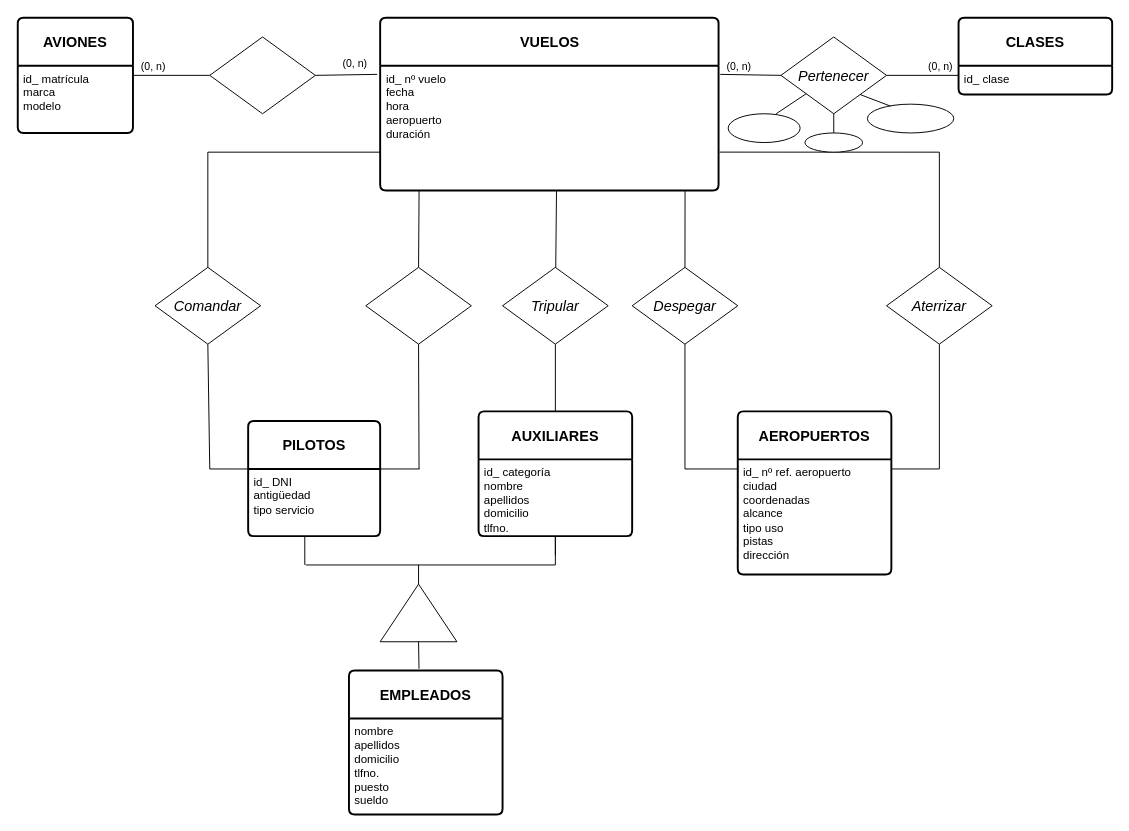
The diagram is 1129 pixels wide and 831 high, and some of its shapes have lost their labels. Each missing label, with the centre of its shape:
1º asiento: point (763, 128)
Co-pilotar: point (418, 305)
Isa: point (418, 612)
precio: point (833, 142)
Realizar: point (262, 75)
últ. asiento: point (910, 118)
